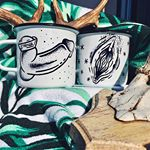cups: (1, 22, 81, 91), (76, 30, 136, 89)
